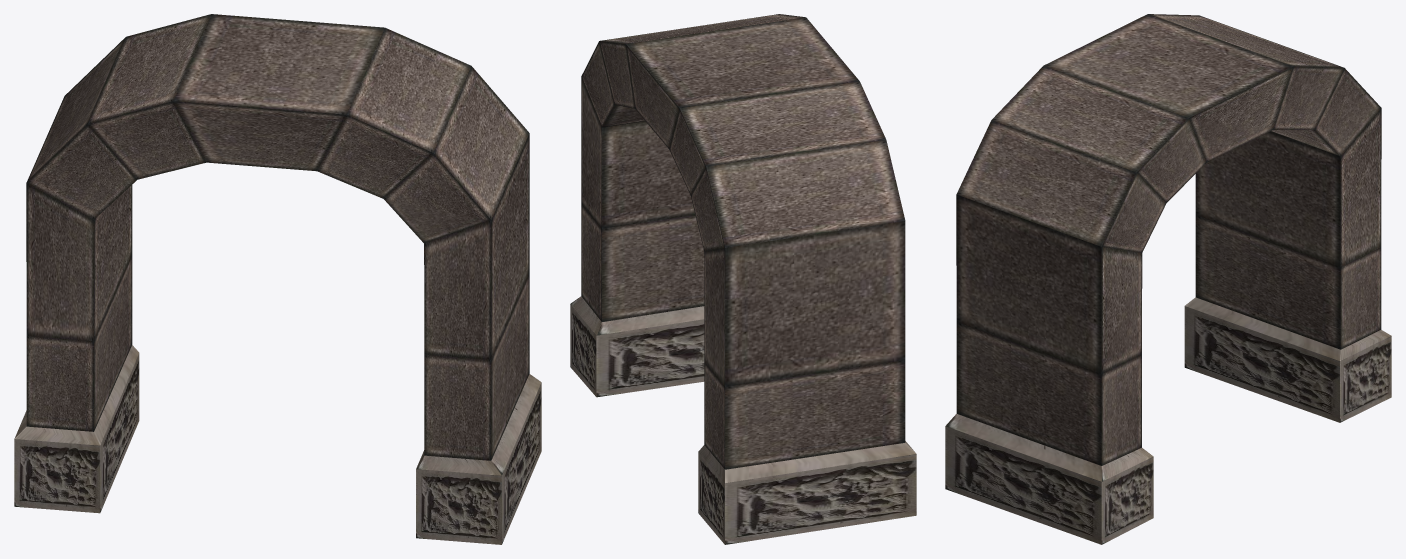
The model's file is doorx32.obj.
3 renders of one model, left to right at view 1: azimuth 30°, elevation 25°; view 2: azimuth 150°, elevation 25°; view 3: azimuth 270°, elevation 25°, orthographic. The views are drawn at different scales.
Parts seen in each view (by area): view 1: doorx32; view 2: doorx32; view 3: doorx32.
Part boxes in pixels (box(x1,y1,x2,y2)): doorx32: box(14, 14, 541, 544); doorx32: box(570, 14, 916, 544); doorx32: box(945, 14, 1391, 544).
Size of the model in its own units: 150 by 131 by 140.
